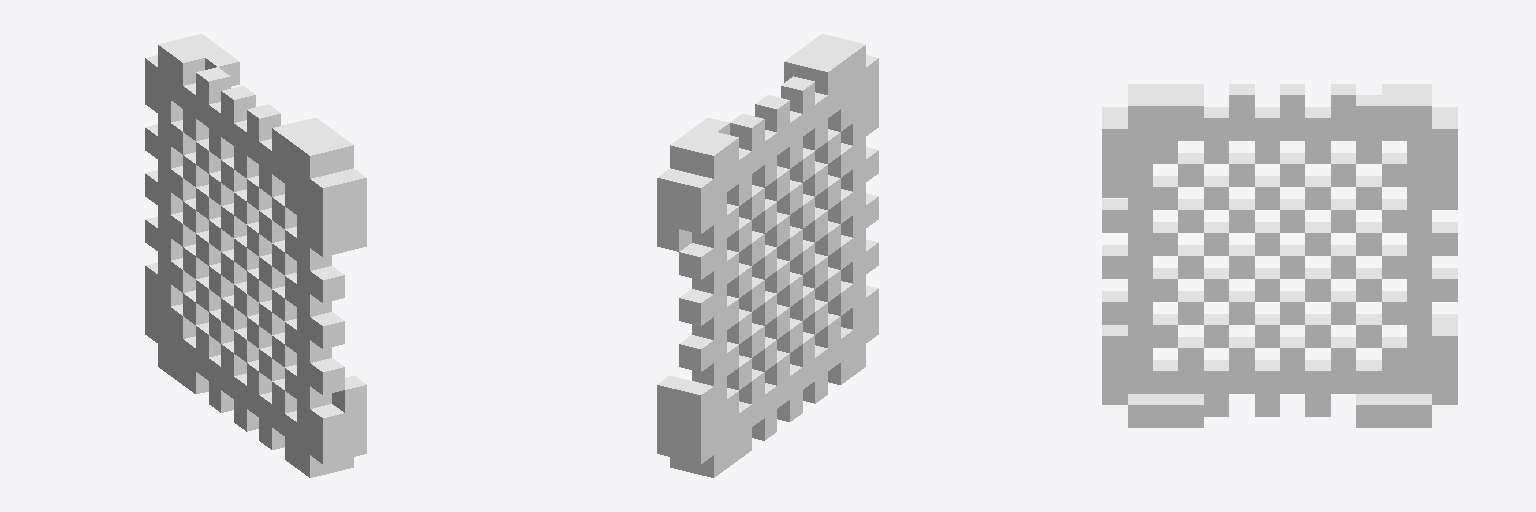
Rendered from grate_xm.obj.
3 views of the same model, side by side, from view 1: azimuth 30°, elevation 25°; view 2: azimuth 150°, elevation 25°; view 3: azimuth 270°, elevation 25° (orthographic).
Size of the model in its own units: 2 by 14 by 14.